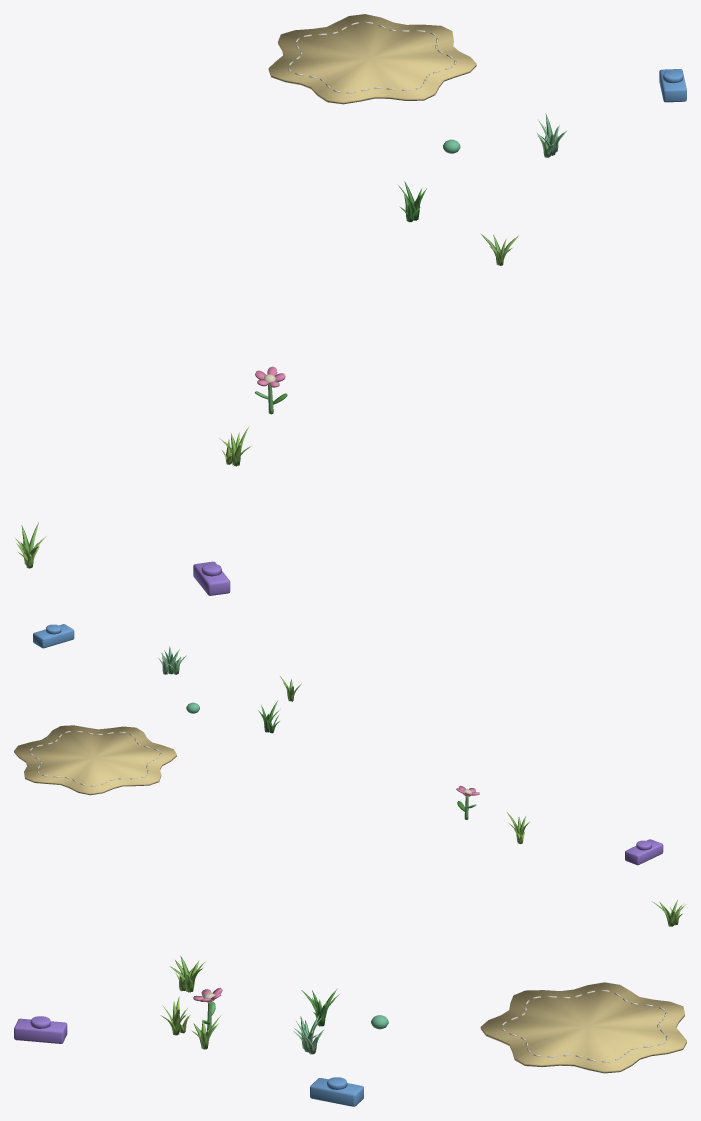
Rendered from W1_FloraRing_11_7.fbx.
3 views of the same model, one above another, from view 1: azimuth 30°, elevation 25°; view 2: azimuth 150°, elevation 25°; view 3: azimuth 270°, elevation 25° (orthographic). The views are drawn at different scales.
Visible parts, largest first — view 1: W1_FloraRing_11_7; view 2: W1_FloraRing_11_7; view 3: W1_FloraRing_11_7.
Boxes of the visible parts, left/top/right/bottom form: W1_FloraRing_11_7: left=15, top=14, right=686, bottom=595; W1_FloraRing_11_7: left=14, top=624, right=686, bottom=926; W1_FloraRing_11_7: left=14, top=956, right=686, bottom=1106.
Size of the model in its own units: 2.92 by 0.9713 by 2.26.
